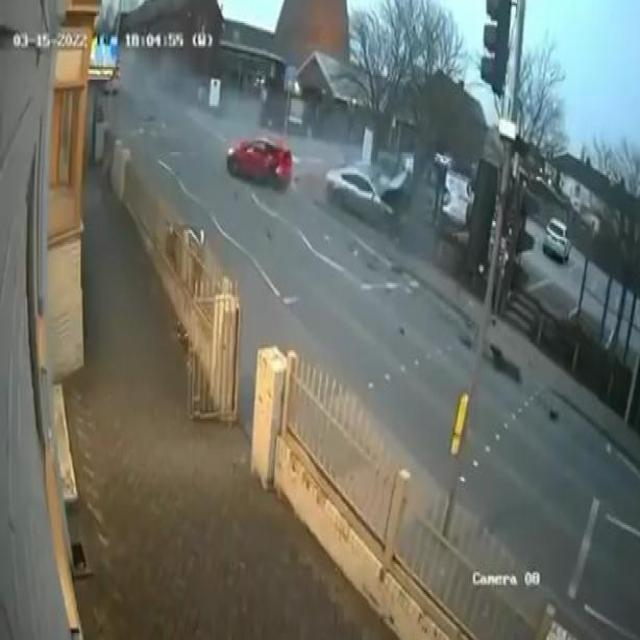accident: (215, 124, 417, 244)
